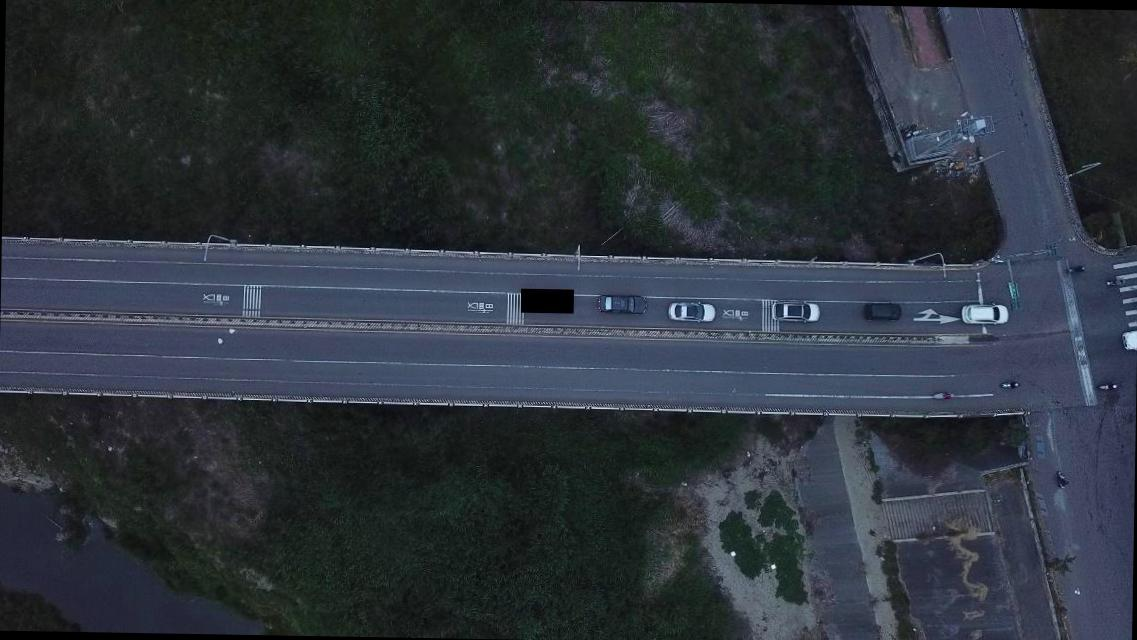vehicle: (770, 296, 821, 322), (664, 300, 717, 324), (962, 303, 1011, 325), (598, 292, 646, 312), (861, 301, 903, 323), (1120, 328, 1136, 353)
